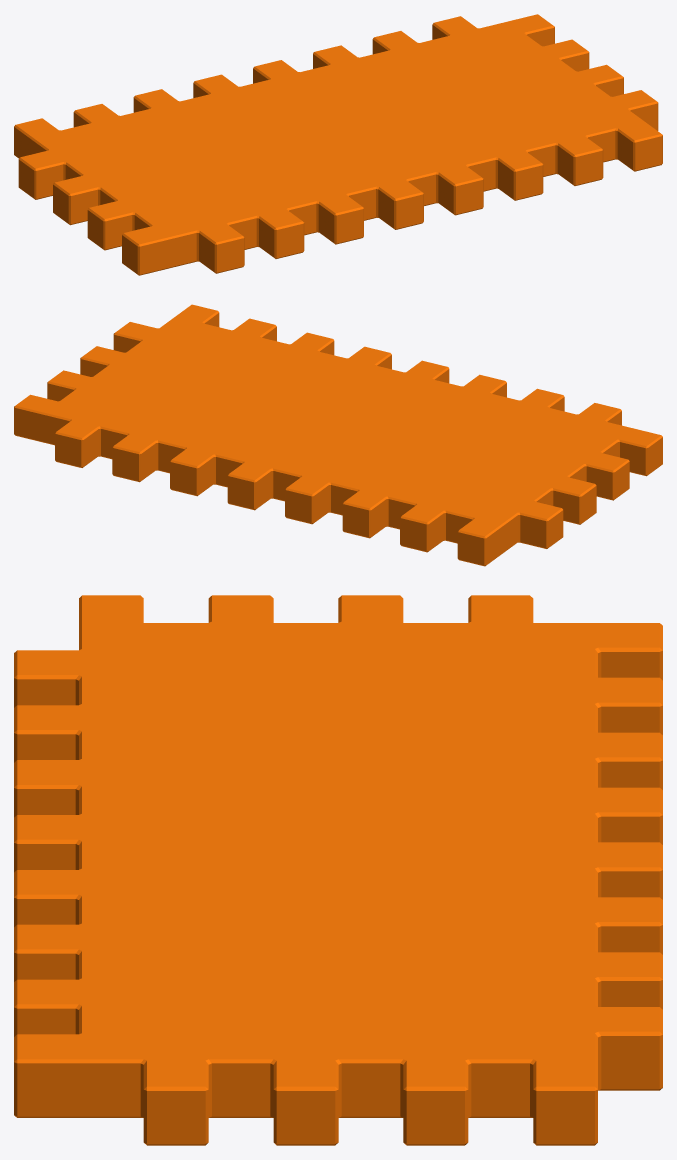
File: YellowRect.fbx
The picture shows the model from 3 angles, top to bottom: view 1: azimuth 30°, elevation 25°; view 2: azimuth 150°, elevation 25°; view 3: azimuth 270°, elevation 25°; orthographic projection. The views are drawn at different scales.
Visible parts, largest first — view 1: BlueRect; view 2: BlueRect; view 3: BlueRect.
Boxes of the visible parts, <box> form: BlueRect: <box>14,14,662,275</box>; BlueRect: <box>14,304,662,566</box>; BlueRect: <box>14,595,662,1145</box>.
Size of the model in its own units: 9 by 0.5001 by 5.
